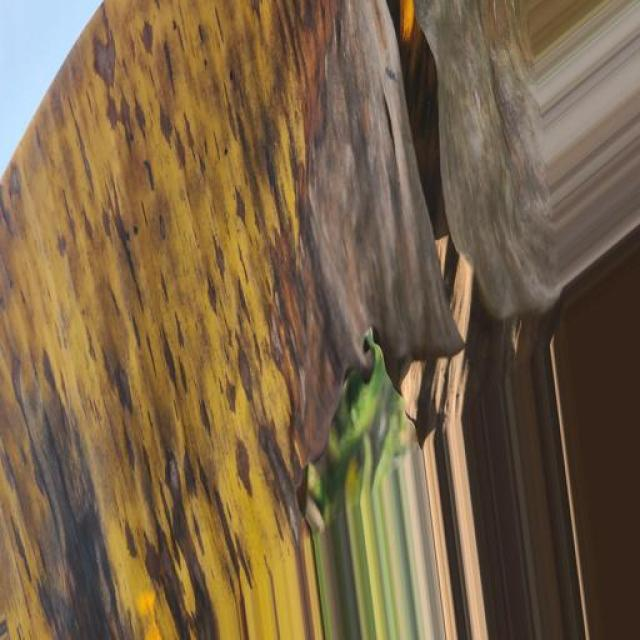Cordana: (1, 0, 489, 640)
